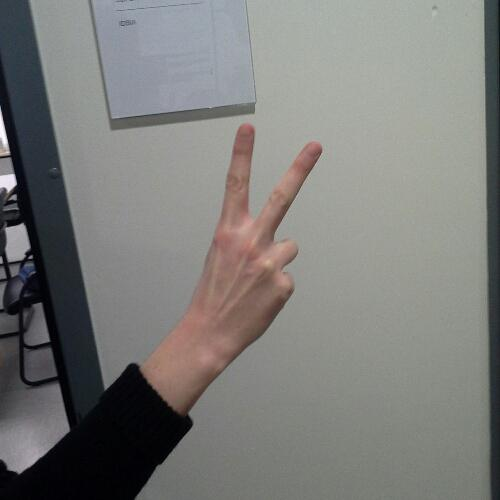scissors: (198, 120, 334, 350)
